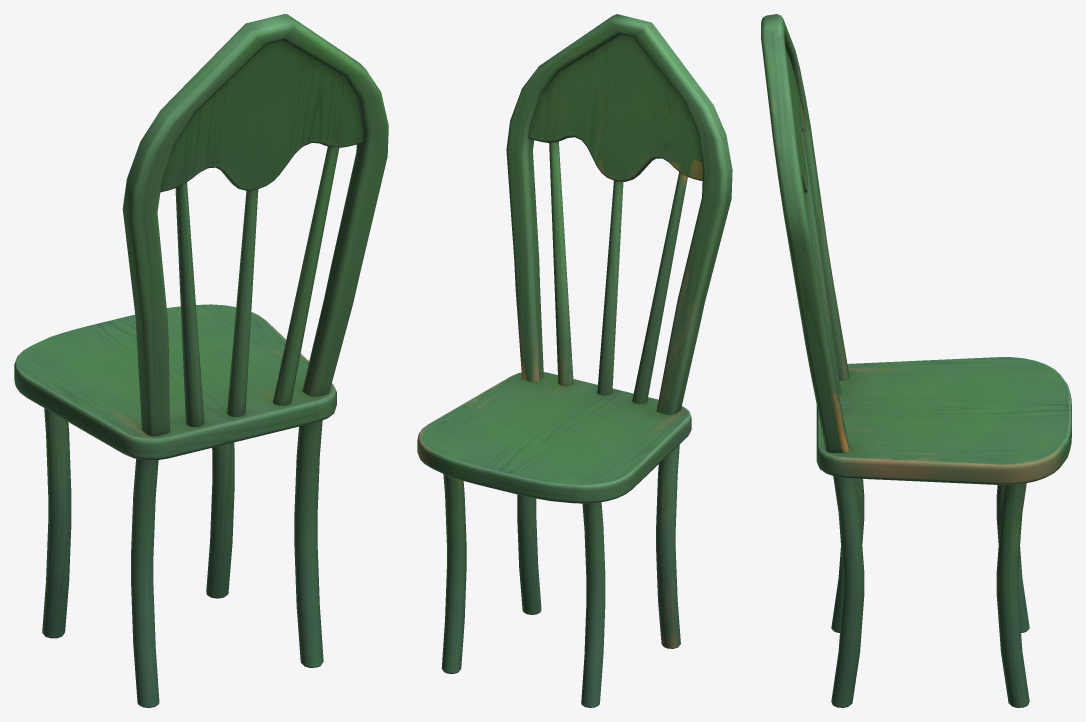
File: SM_WoodenChair02.fbx
3 renders of one model, left to right at view 1: azimuth 30°, elevation 25°; view 2: azimuth 150°, elevation 25°; view 3: azimuth 270°, elevation 25°, orthographic. The views are drawn at different scales.
Parts seen in each view (by area): view 1: SM_WoodenChair02_LOD0; view 2: SM_WoodenChair02_LOD0; view 3: SM_WoodenChair02_LOD0.
Boxes of the visible parts, bbox=[...] form: SM_WoodenChair02_LOD0: bbox=[14, 14, 388, 707]; SM_WoodenChair02_LOD0: bbox=[417, 14, 732, 707]; SM_WoodenChair02_LOD0: bbox=[761, 14, 1071, 707].
Bounding box in the file's own units: 47.92 × 53.38 × 122.
Materials: 1 (1 with a texture image).
